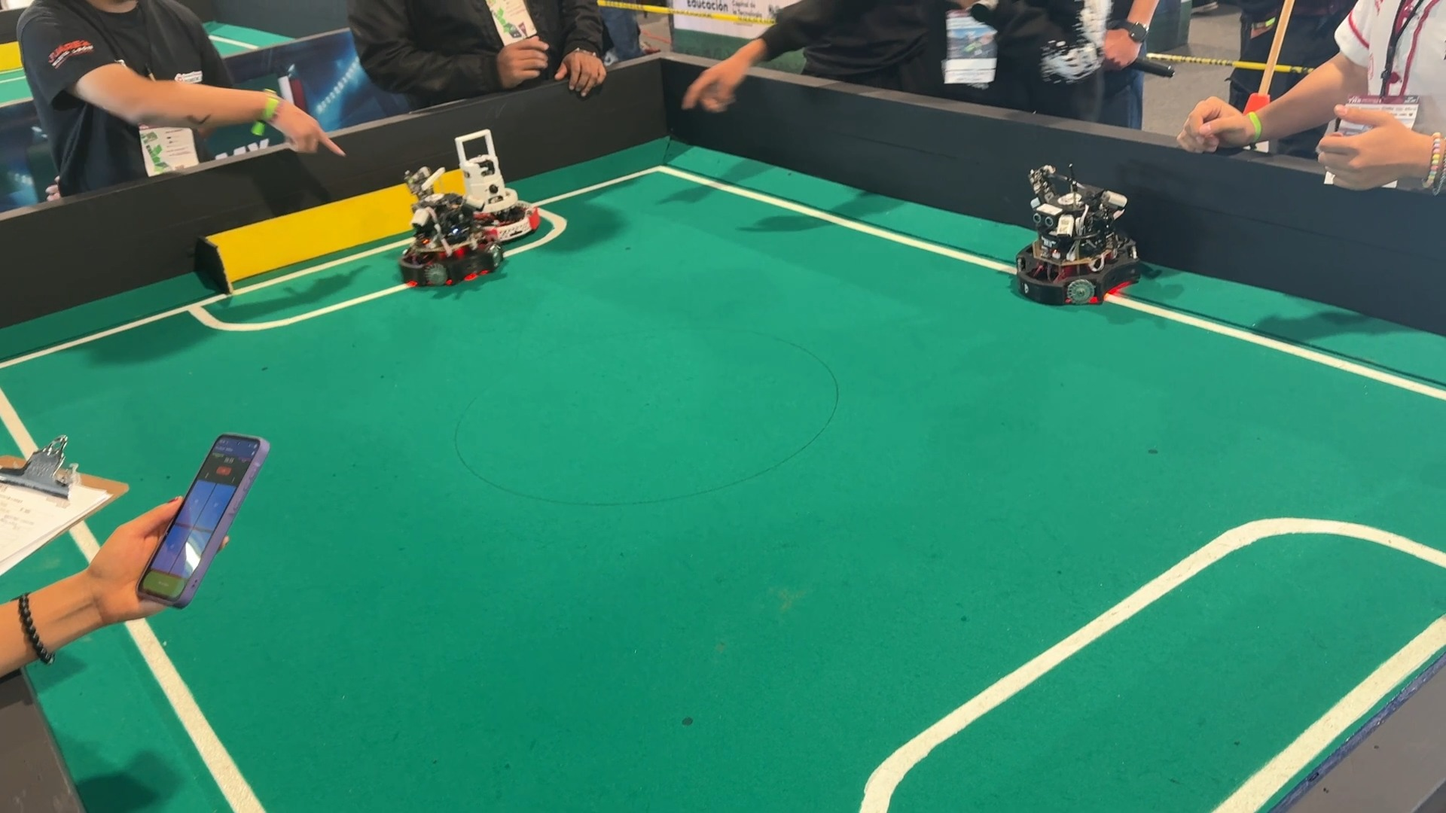Robot: (987, 155, 1174, 321), (439, 123, 539, 237), (412, 177, 508, 288)
